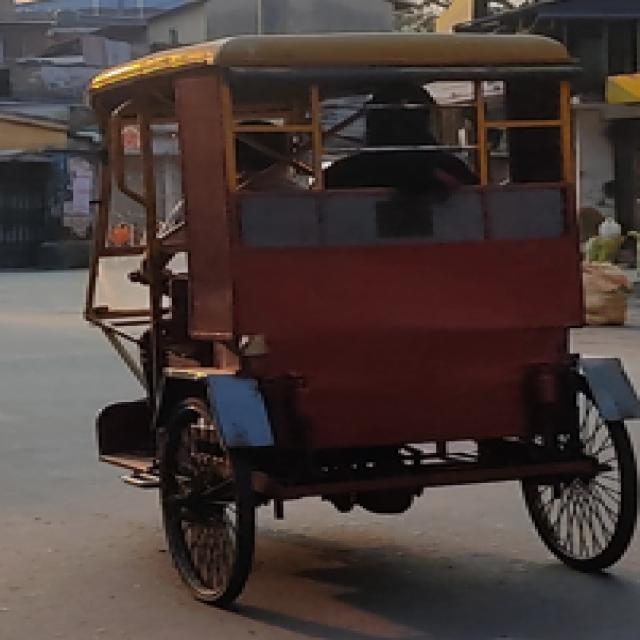rickshaw: (79, 30, 640, 614)
